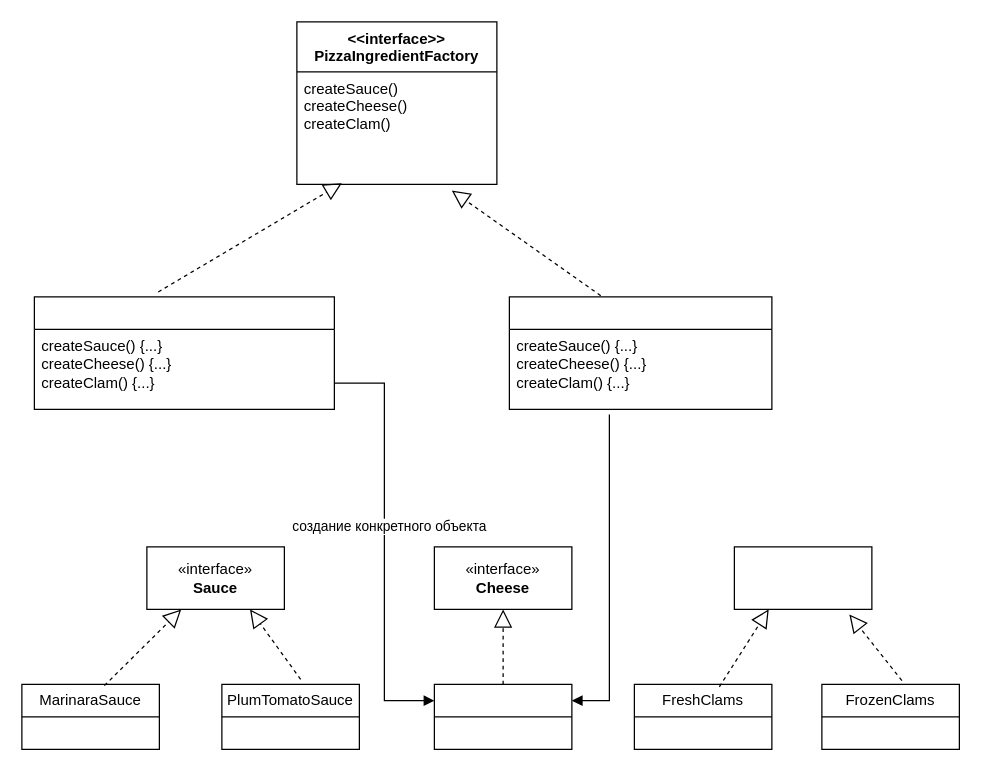
The diagram is 981 pixels wide and 771 high, and some of its shapes have lost their labels. Each missing label, with the box of its shape:
ChicagoPizzaIngredientFactory: (33, 296, 334, 409)
NYPizzaIngredientFactory: (508, 296, 772, 409)
ReggianoCheese: (433, 683, 572, 749)
«interface» Clam: (733, 546, 872, 609)
